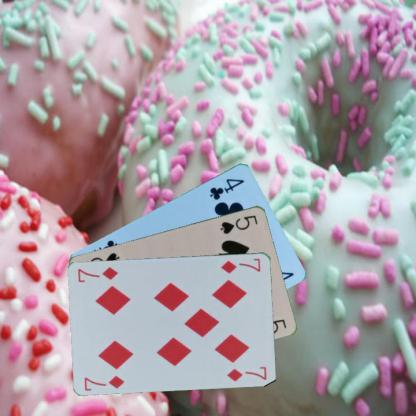4c: (207, 176, 245, 201)
5s: (218, 212, 259, 235)
7d: (81, 373, 126, 391), (218, 256, 262, 274)
